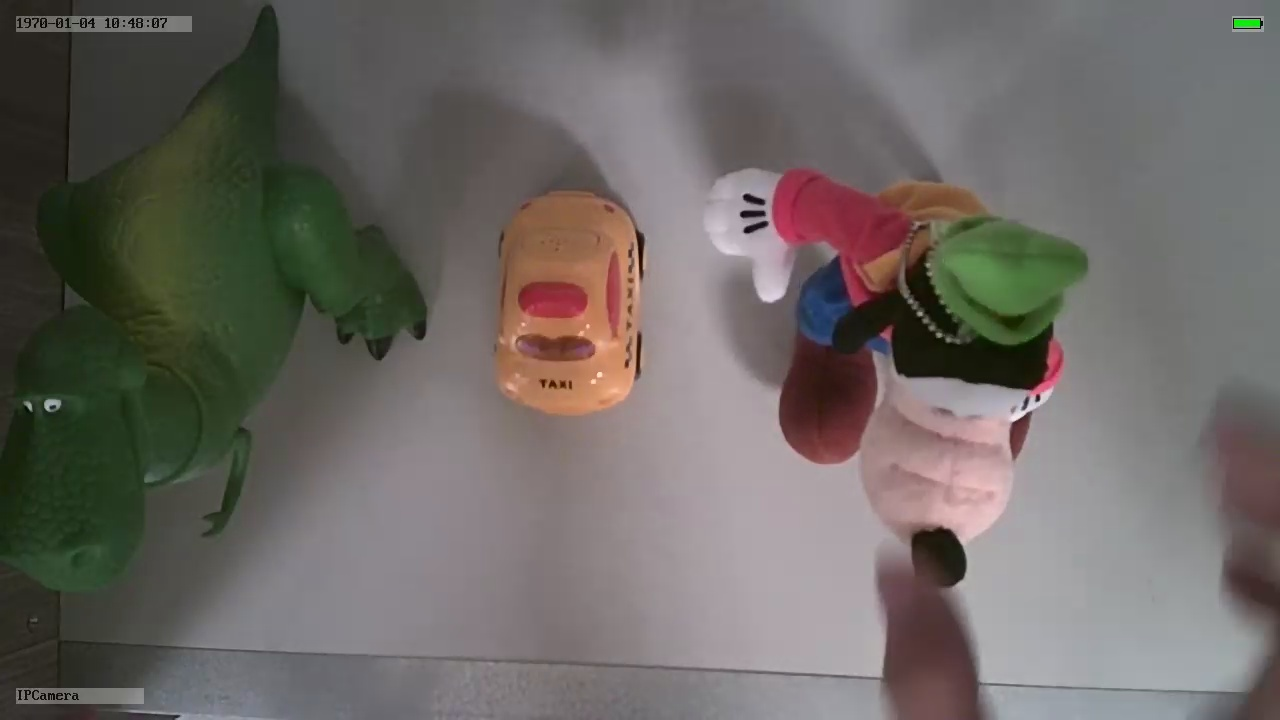car: (492, 187, 651, 420)
goofy: (701, 164, 1090, 593)
rex: (1, 85, 428, 595)
